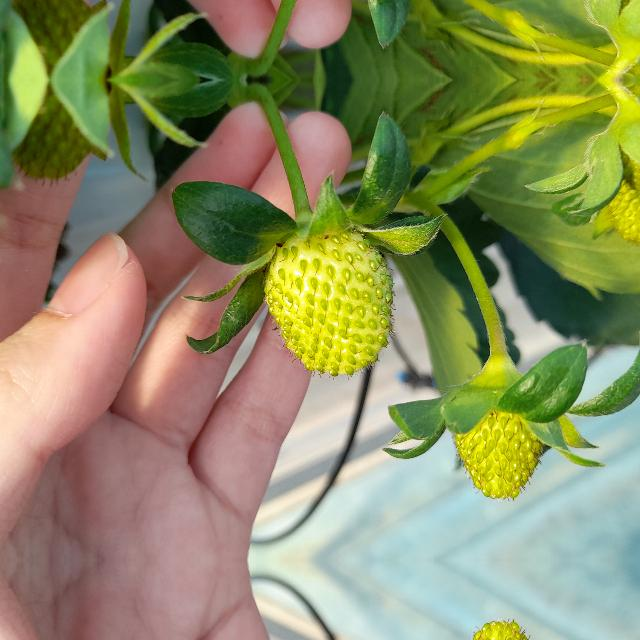Health_25: (262, 228, 396, 379), (438, 361, 554, 499)
